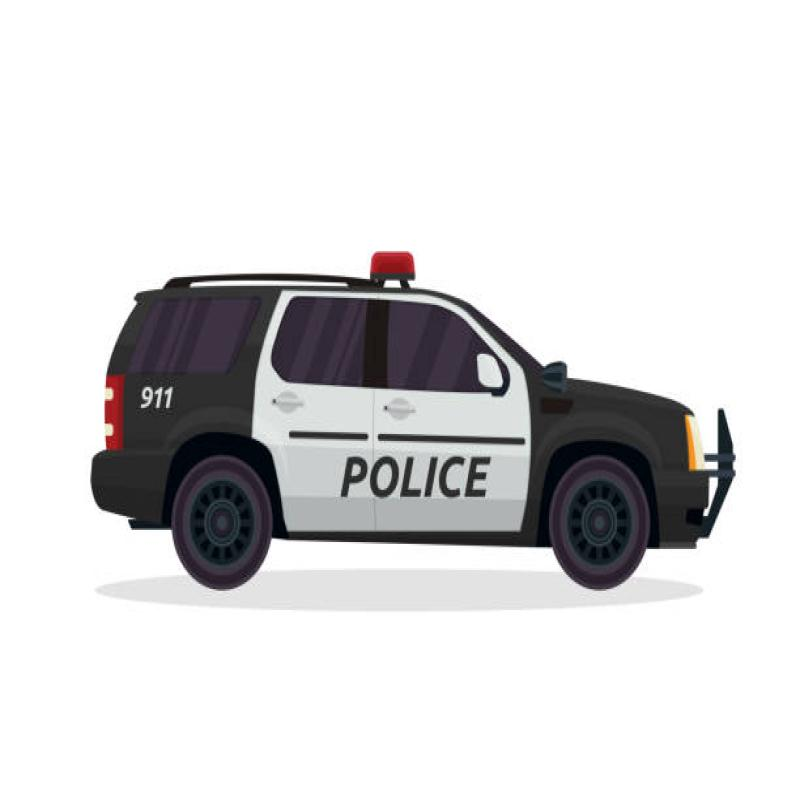AmbulanceSiren: (362, 245, 451, 304)
car: (60, 278, 743, 573)
